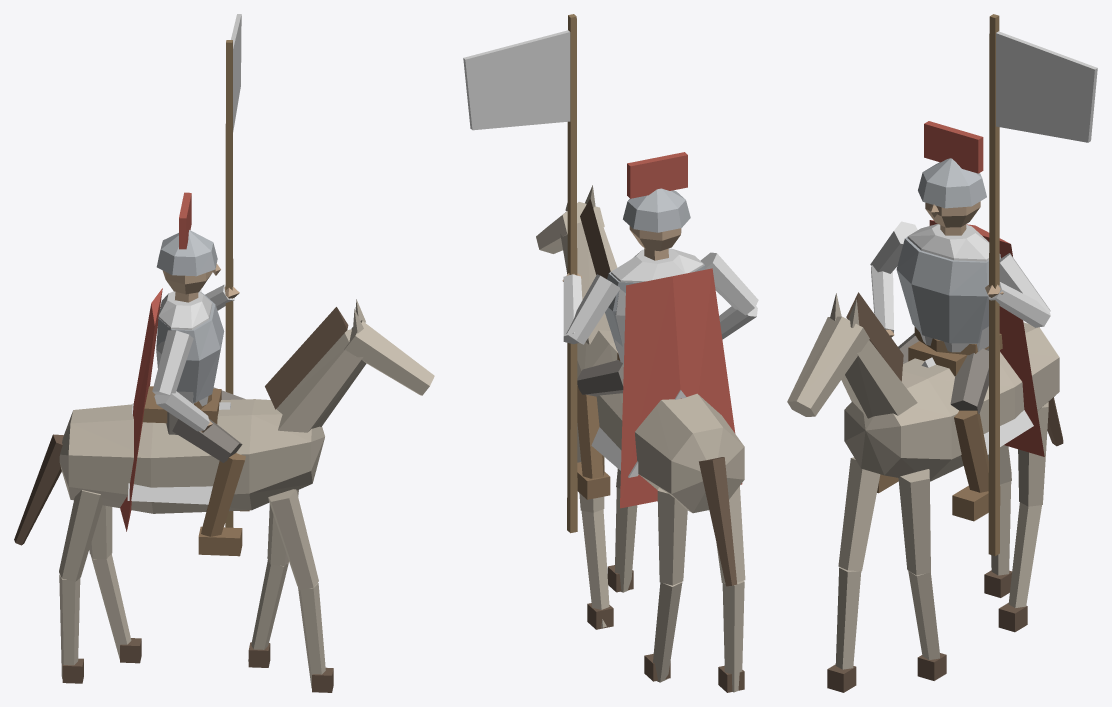
File: great-general.glb
3 renders of one model, left to right at view 1: azimuth 30°, elevation 25°; view 2: azimuth 150°, elevation 25°; view 3: azimuth 270°, elevation 25°, orthographic. The views are drawn at different scales.
Parts seen in each view (by area): view 1: LOD0; view 2: LOD0; view 3: LOD0.
Part boxes in pixels (bbox=[...]): LOD0: bbox=[14, 14, 434, 692]; LOD0: bbox=[463, 14, 758, 692]; LOD0: bbox=[787, 14, 1097, 692].
Size of what is drawn, in the model's own units: 0.9264 by 1.75 by 0.7487.
